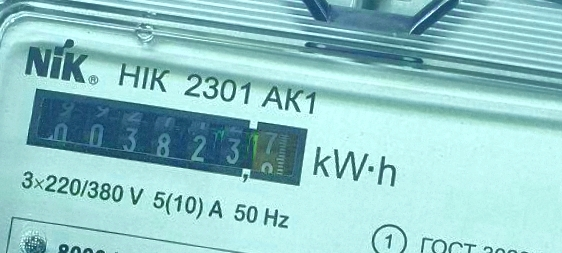0: (83, 118, 106, 148), (49, 118, 70, 143)
2: (186, 130, 210, 165)
3: (118, 122, 140, 153), (222, 134, 243, 166)
7: (260, 129, 279, 159)
8: (152, 129, 173, 159)
9: (54, 97, 75, 118)
screen: (17, 82, 312, 191)
